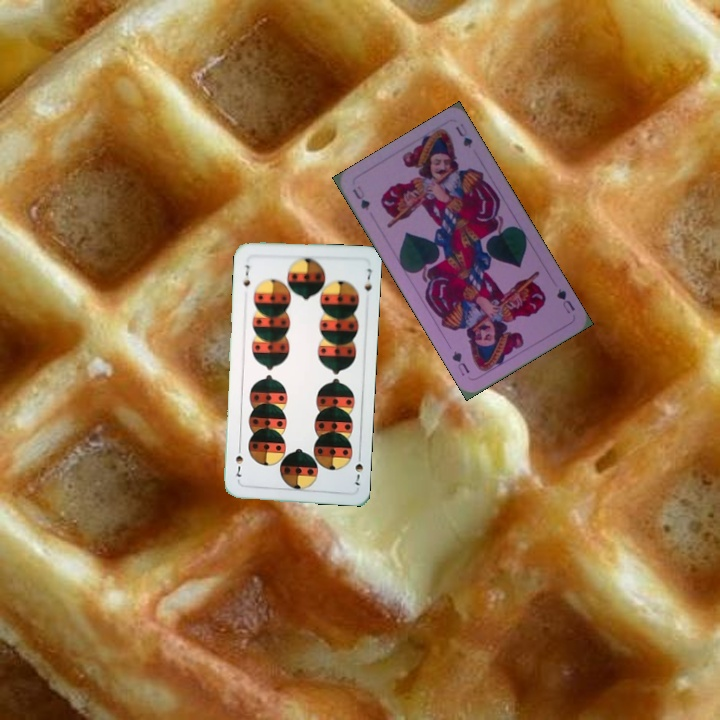GU: (552, 284, 578, 316), (348, 182, 373, 213)
S7: (351, 449, 365, 488), (239, 260, 252, 289)
